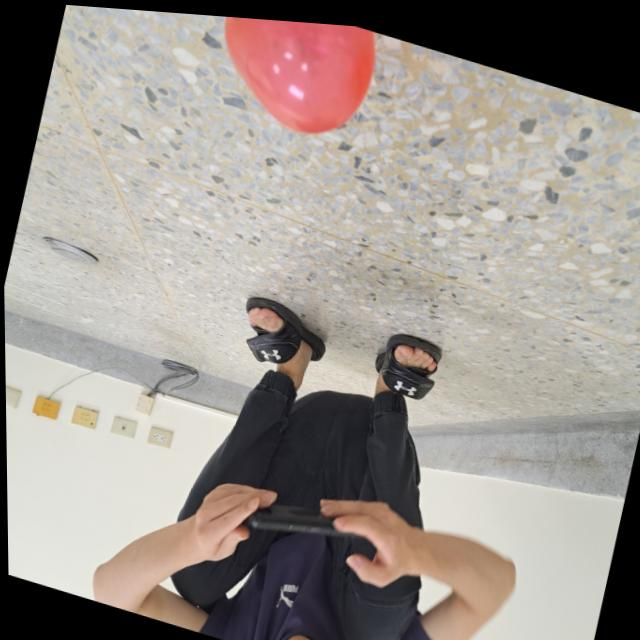red: (202, 12, 380, 146)
